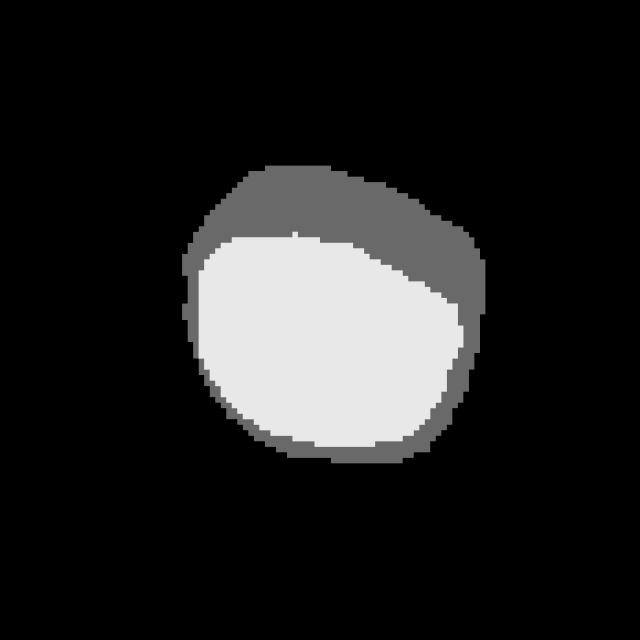WBC: (160, 149, 497, 485)
